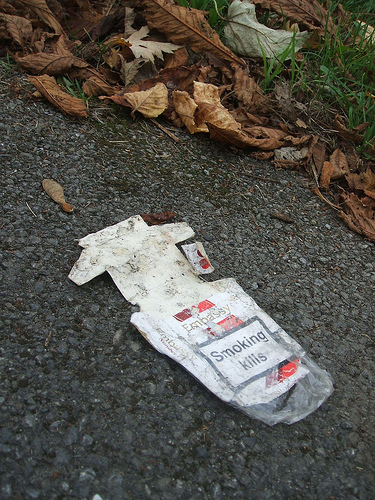litter: (65, 213, 337, 426)
